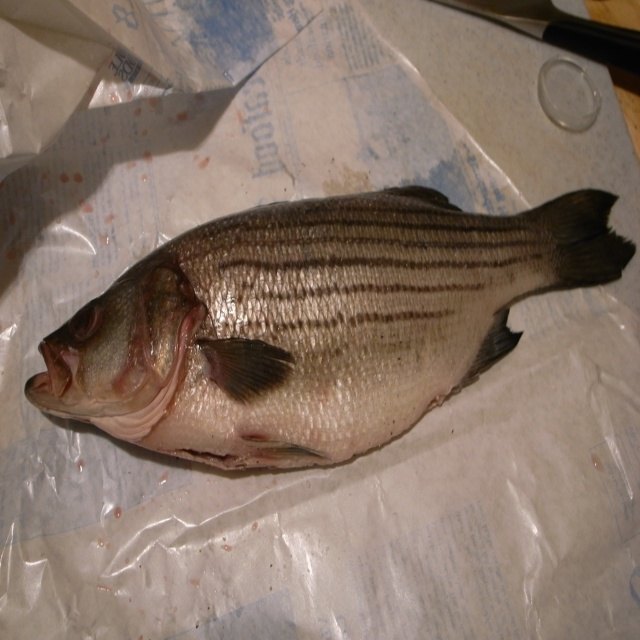Fish: (24, 185, 638, 471)
